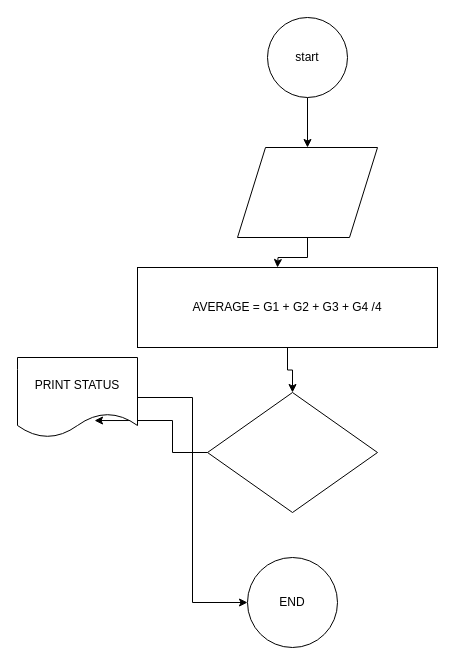
Image size: 455x665. Some labels were removed from this diagram. Here are the shapes that lost their labels. From the top down, the centre of each, then its label:
[307,192]: input grade 1 grade 2 grade 3 grade 4
[292,452]: IF AVERAGE >/60= "APPROVED" IF<60="FAILED"
